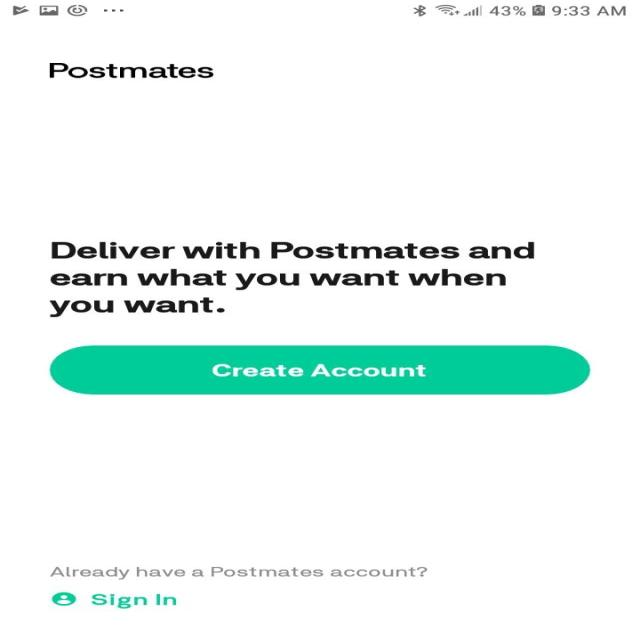Icon: (52, 592, 76, 606)
Text: (49, 241, 534, 317), (49, 566, 428, 580), (48, 64, 214, 78), (90, 593, 176, 608)
TextButton: (49, 345, 590, 395)
